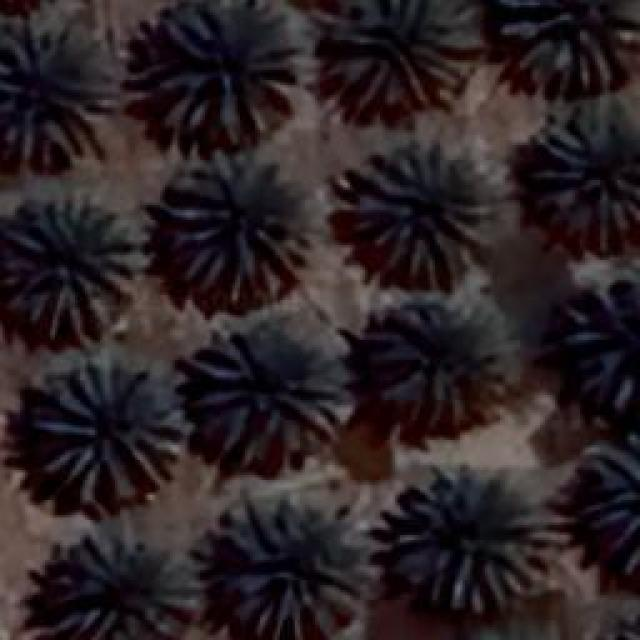PalmTree: (395, 460, 570, 618), (185, 320, 355, 470), (158, 150, 312, 305), (338, 140, 492, 290), (35, 360, 185, 510), (212, 492, 360, 638), (2, 198, 148, 342), (365, 295, 513, 430), (145, 8, 293, 142), (328, 0, 478, 110), (530, 100, 638, 242), (50, 534, 195, 638), (0, 22, 102, 167), (495, 0, 630, 95), (568, 268, 638, 410), (582, 434, 638, 578)
